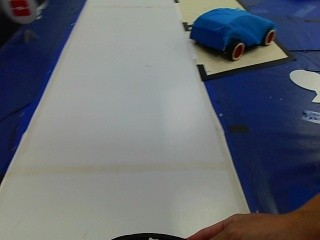car: (183, 3, 281, 68)
company: (2, 0, 36, 26)
